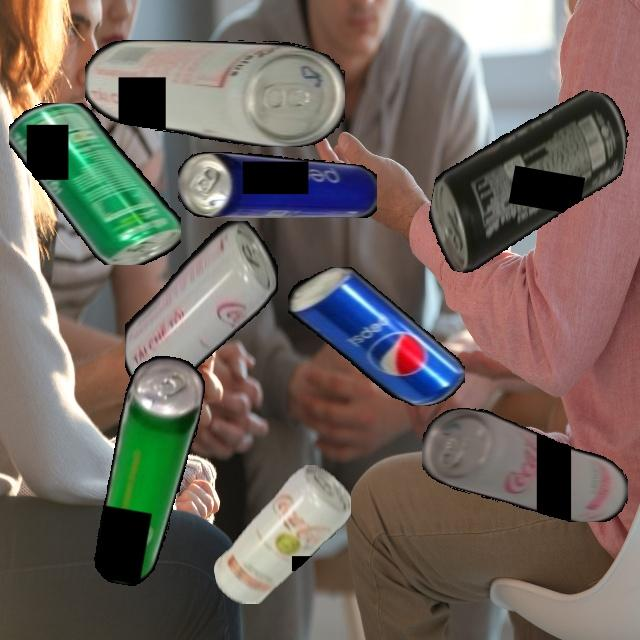debris: (421, 68, 634, 296), (88, 350, 209, 592), (9, 102, 181, 265), (84, 40, 345, 147), (124, 220, 278, 396), (287, 267, 465, 406), (422, 407, 628, 522), (213, 464, 351, 604), (178, 151, 377, 218)
